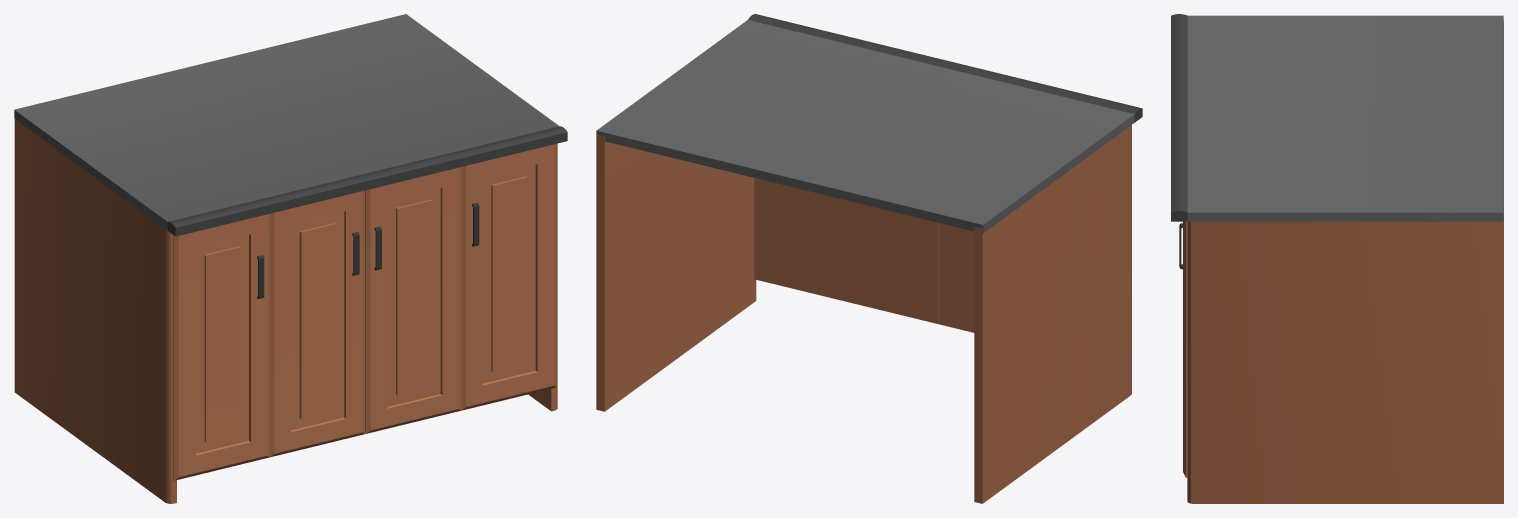
The model's file is Stand.fbx.
3 views of the same model, side by side, from view 1: azimuth 30°, elevation 25°; view 2: azimuth 150°, elevation 25°; view 3: azimuth 270°, elevation 25° (orthographic). The views are drawn at different scales.
Visible parts, largest first — view 1: stand; view 2: stand; view 3: stand.
Part boxes in pixels (x1,y1,x2,y2): stand: [14, 14, 567, 503]; stand: [596, 14, 1142, 503]; stand: [1171, 14, 1503, 503].
Bounding box in the file's own units: 117 × 81.06 × 83.44.
1 material, 1 textured.
